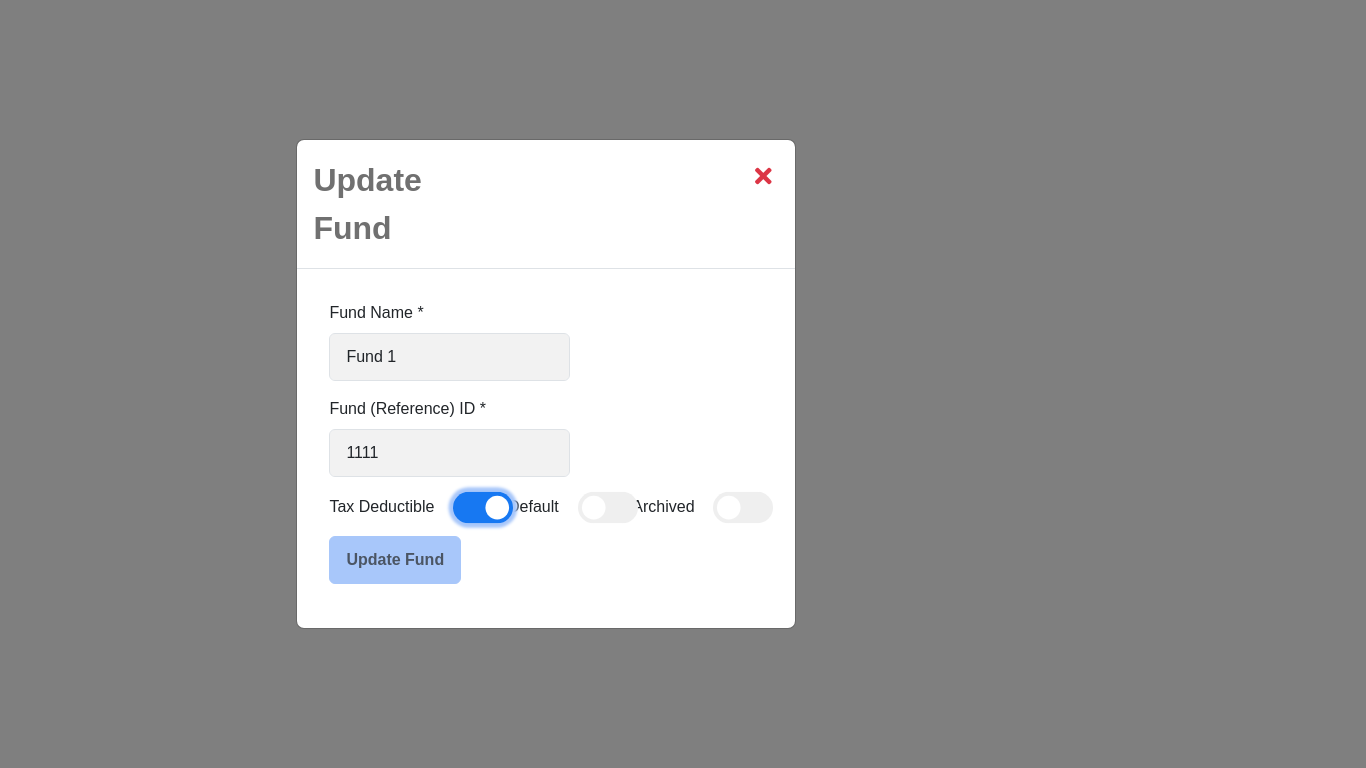
PledgeModal › should show required error when Fund Reference ID is empty and touched
Clear the input (now it's empty)
Clear the field labelled "Fund (Reference) ID *". click: (450, 453)
box: [329,429,570,477]
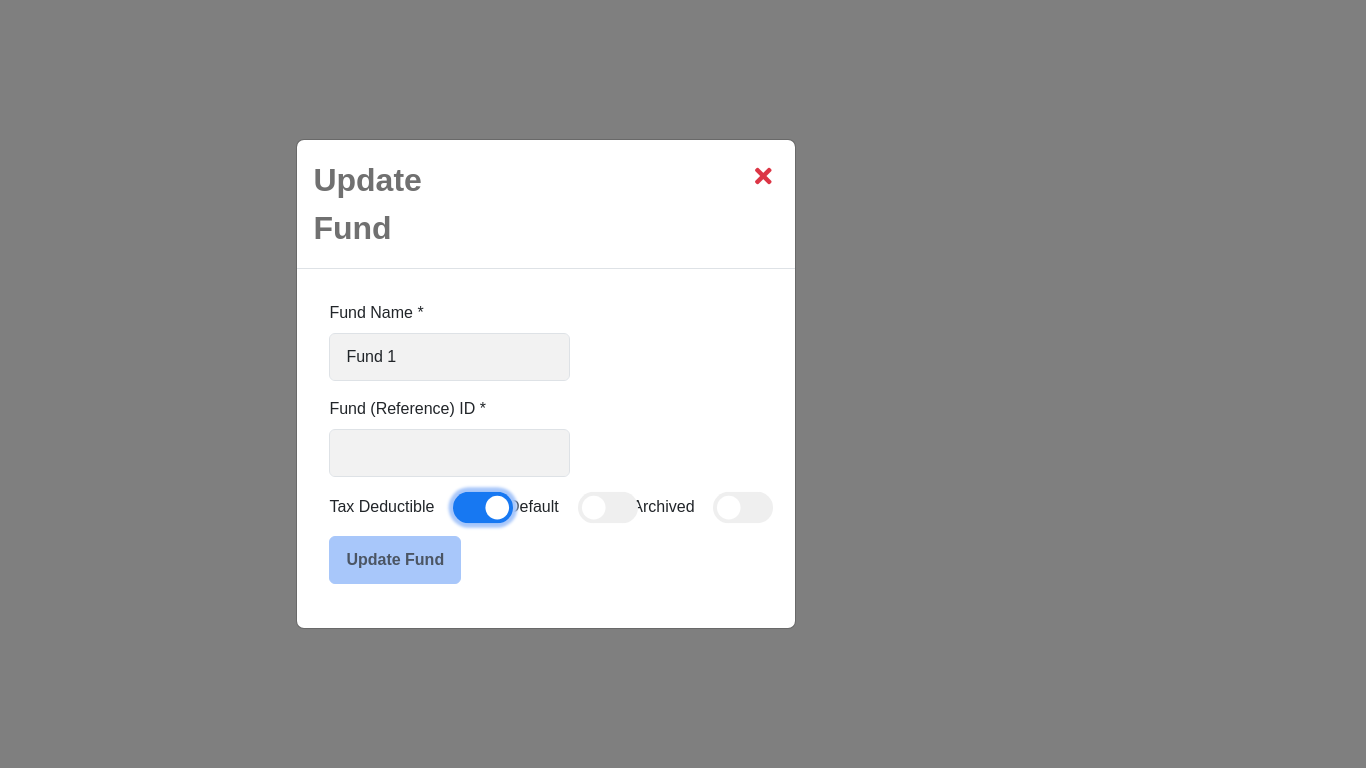
Press Tab
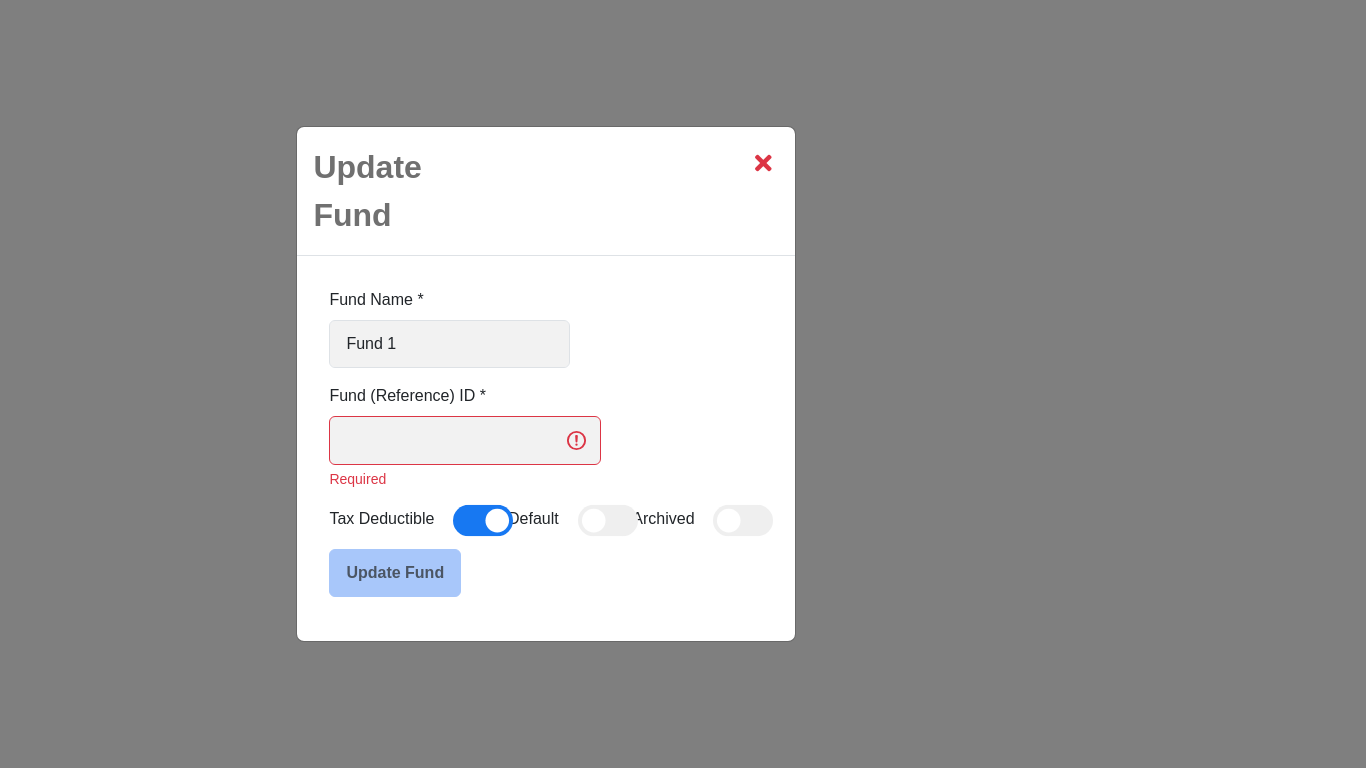
Check: the text "Required" is shown, box [329,471,386,487]
